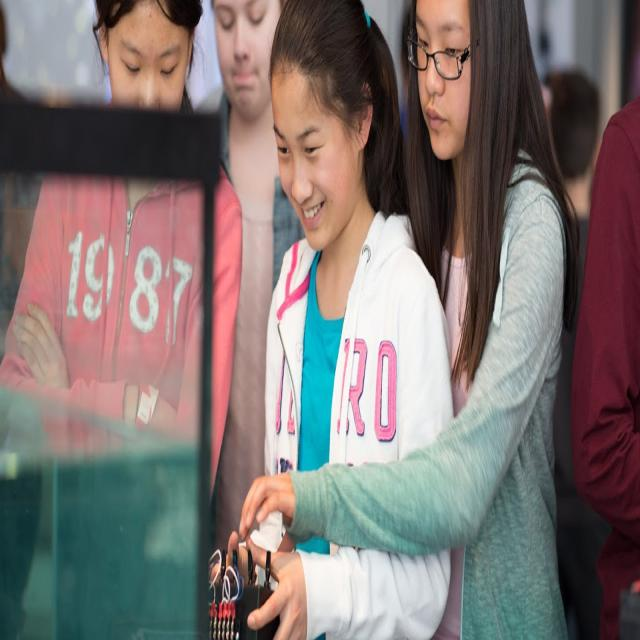body: (237, 0, 586, 639), (213, 0, 460, 639), (0, 0, 244, 508), (211, 0, 307, 552), (550, 62, 638, 640), (1, 0, 35, 326), (388, 0, 416, 164)
